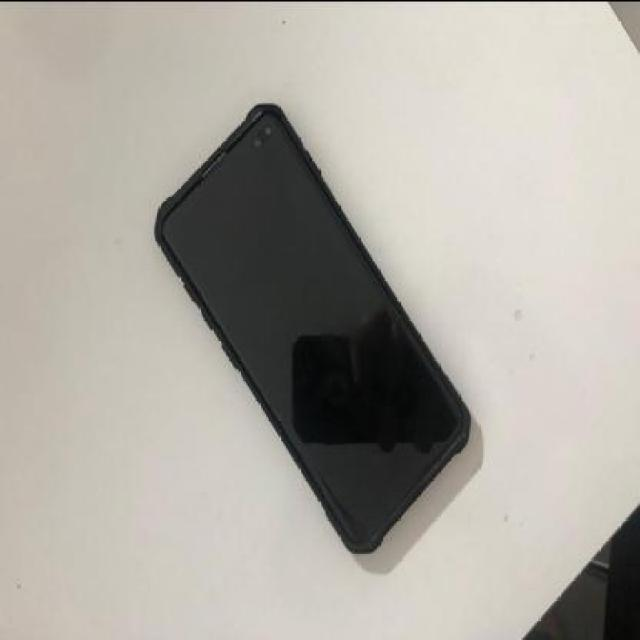phone: (155, 105, 472, 554)
